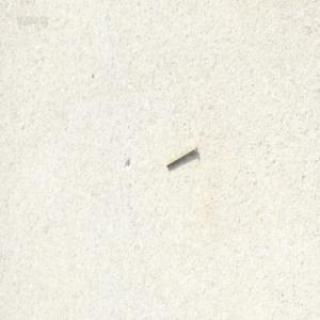Bolttrack_idkeyframe: (164, 142, 196, 168)
